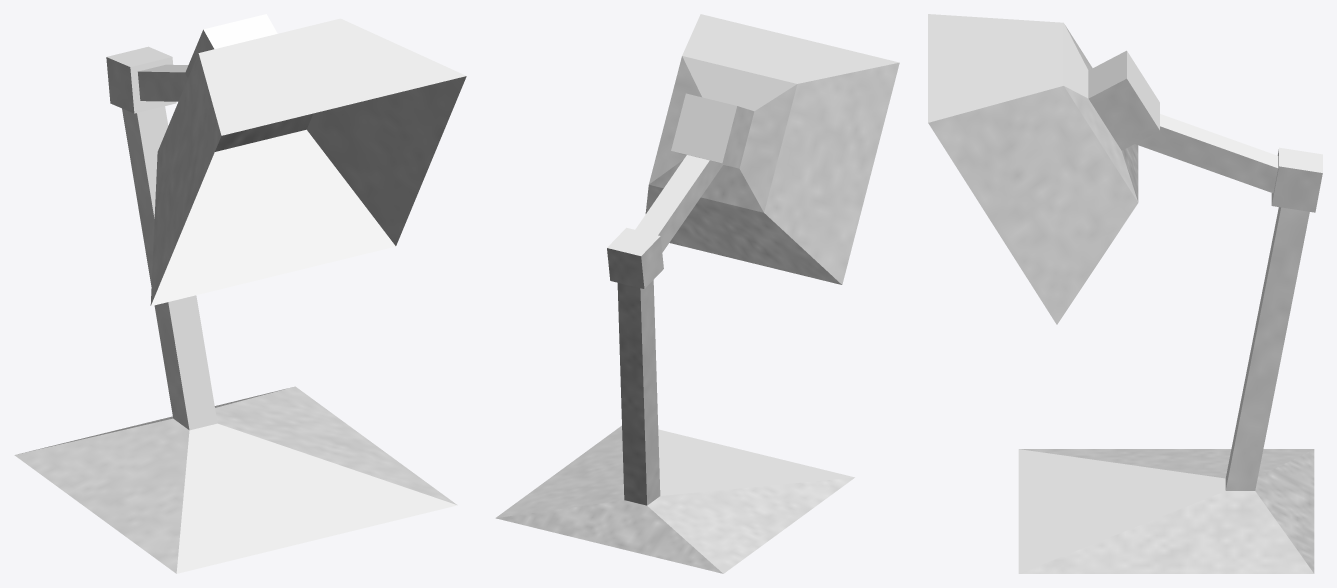
Rendered from table_lamp_paperlike.fbx.
The picture shows the model from 3 angles, left to right: view 1: azimuth 30°, elevation 25°; view 2: azimuth 150°, elevation 25°; view 3: azimuth 270°, elevation 25°; orthographic projection. The views are drawn at different scales.
Parts seen in each view (by area): view 1: Cube.019; view 2: Cube.019; view 3: Cube.019.
Part boxes in pixels (x1=…): Cube.019: x1=14, y1=14, x2=466, y2=573; Cube.019: x1=495, y1=14, x2=899, y2=573; Cube.019: x1=928, y1=14, x2=1322, y2=573.
Size of the model in its own units: 102 by 167 by 134.
